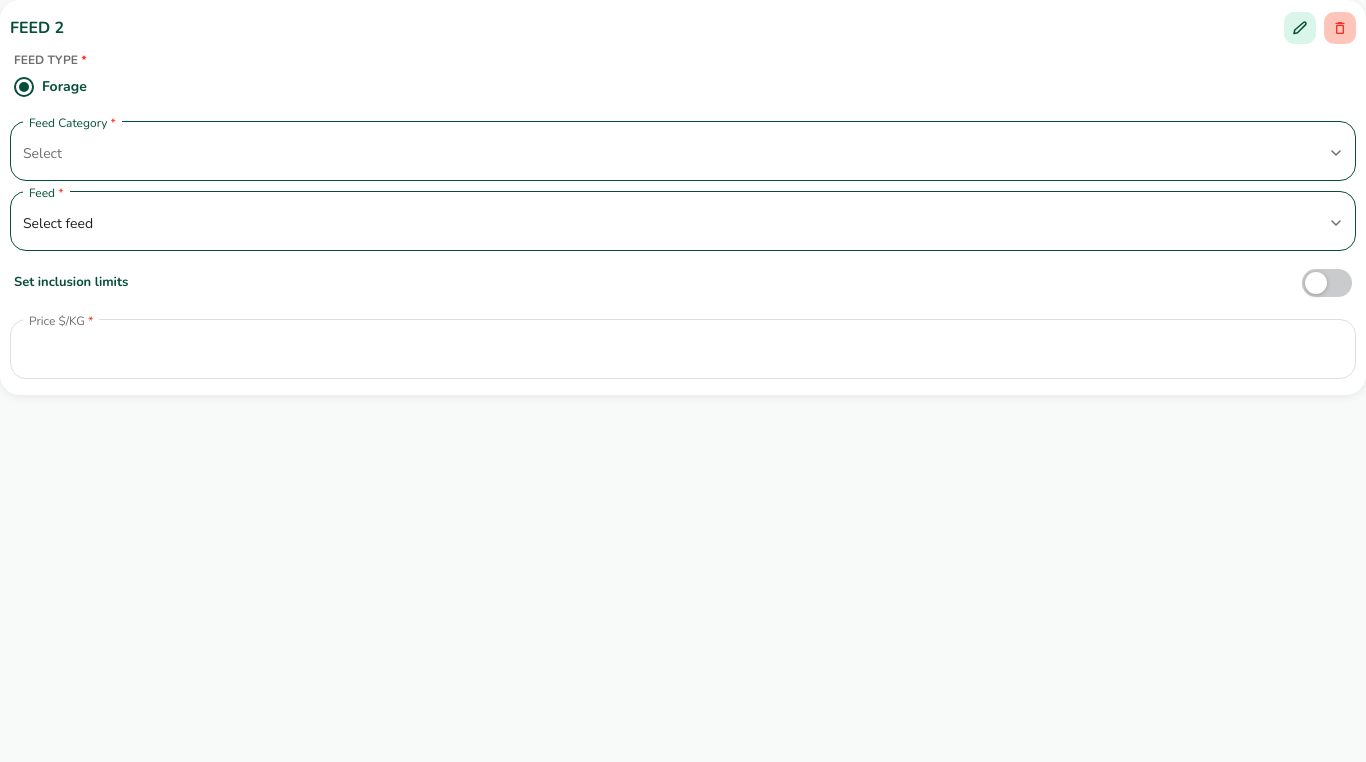
Test: edit dialog — nutrient field layout by category › category=Additive renders 13 nutrient fields (NPN present=true)
The width and height of the screenshot is (1366, 762).
Click the button named "Edit feed nutritional values" at (1300, 28), box [1284, 12, 1316, 44]
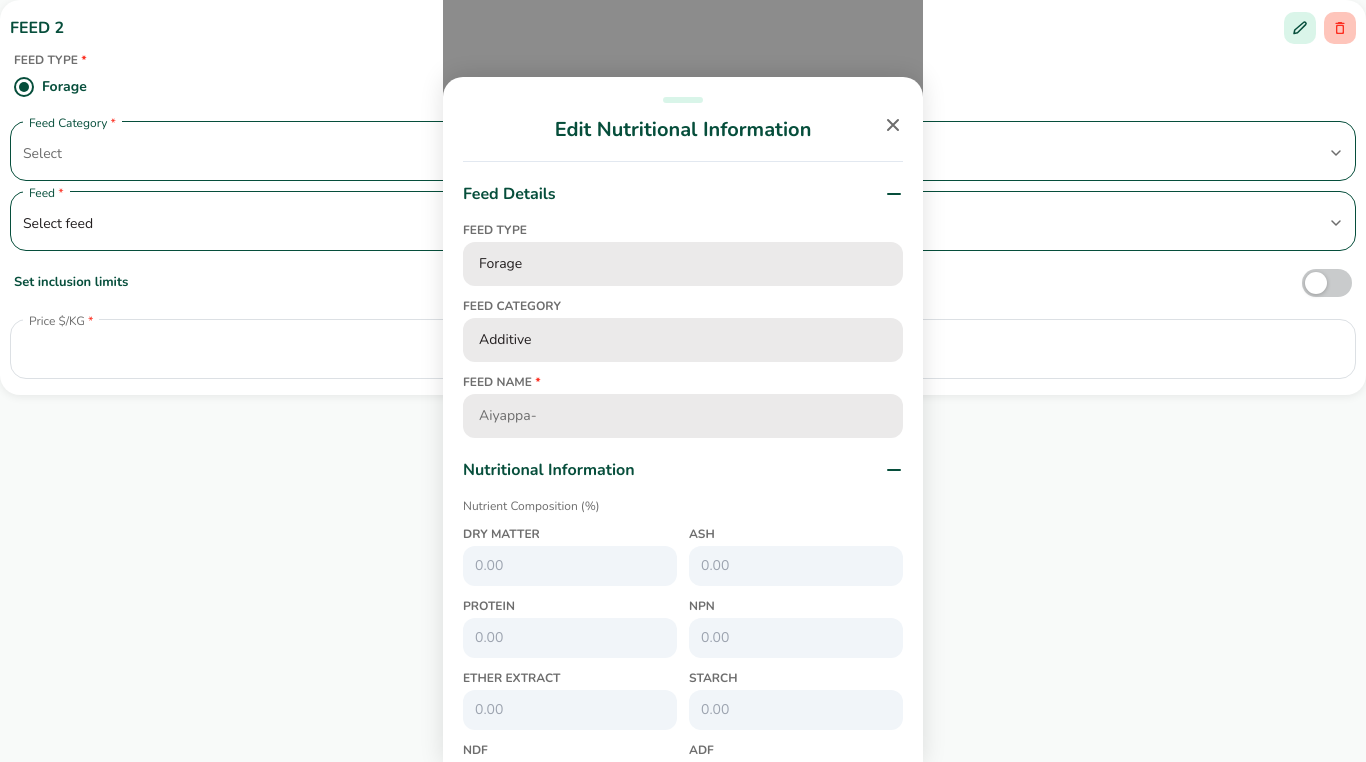
expect the heading "Edit Nutritional Information" is shown: met, box [555, 116, 811, 143]
expect the text "NPN" is shown: met, box [689, 598, 715, 614]
